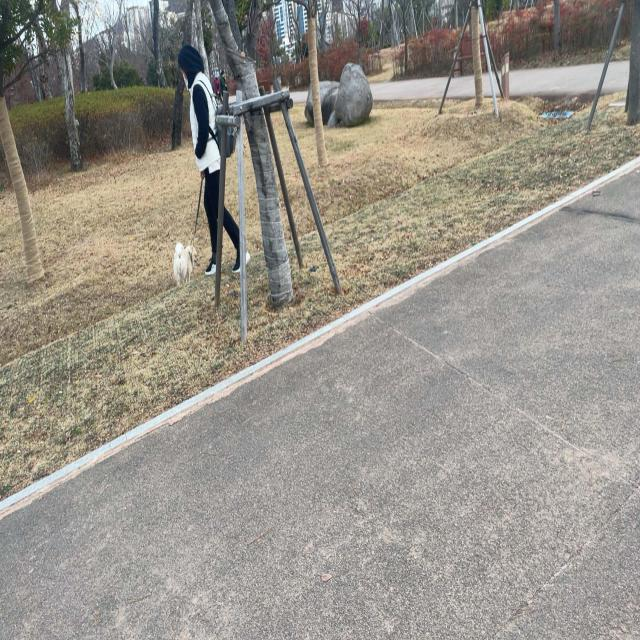Leashed_Dog: (173, 169, 224, 288)
